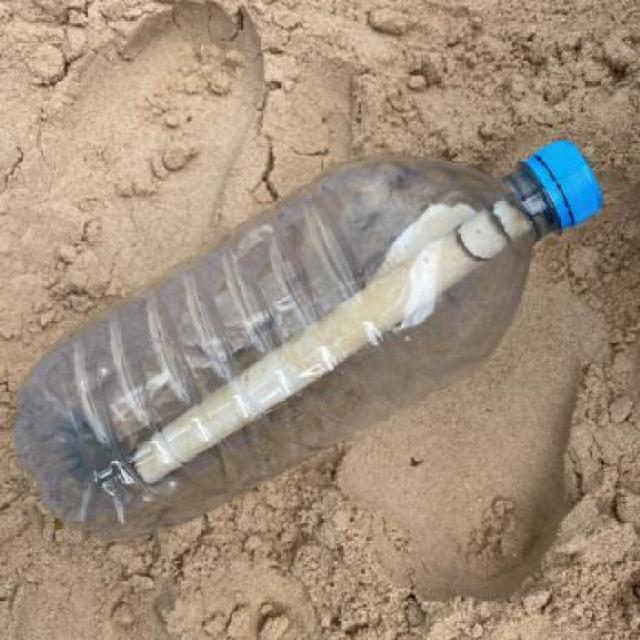bottle: (8, 90, 612, 556)
